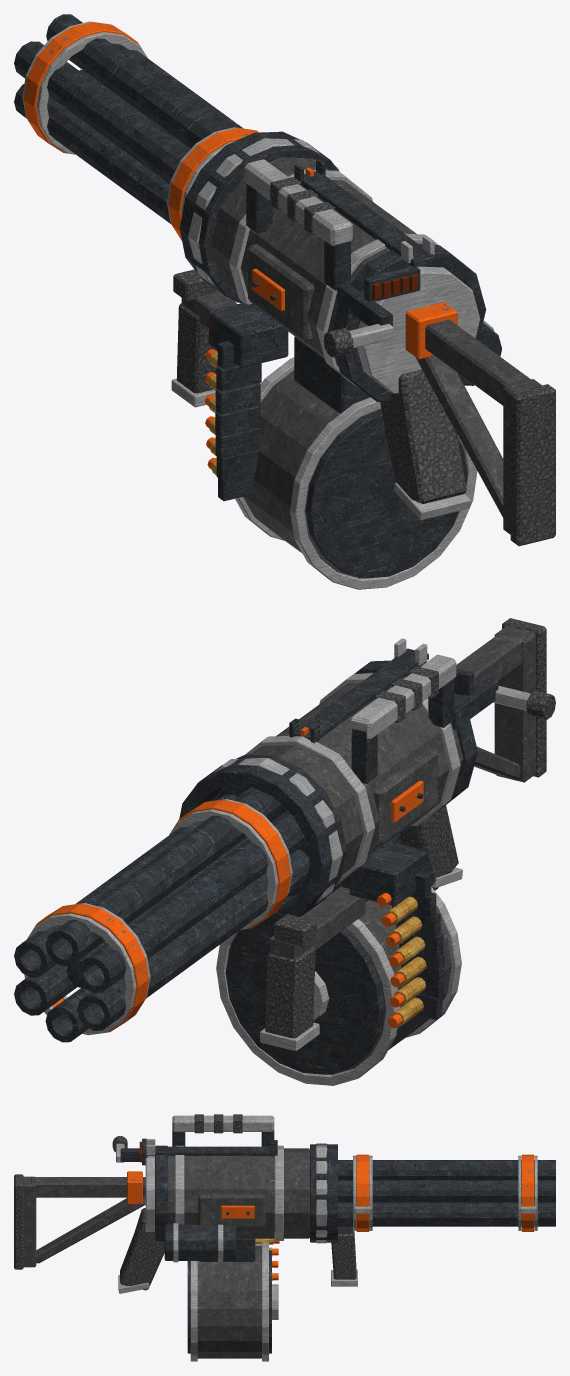
File: hydra.gltf
3 renders of one model, top to bottom at view 1: azimuth 30°, elevation 25°; view 2: azimuth 150°, elevation 25°; view 3: azimuth 270°, elevation 25°, orthographic. The views are drawn at different scales.
Parts seen in each view (by area): view 1: body, mag, minigun_barrel_2, minigun_barrel_1, minigun_barrel_3, bolt, minigun_collar_front, minigun_collar_trim_front, minigun_collar_rear, minigun_barrel_0; view 2: body, mag, minigun_barrel_1, minigun_barrel_2, minigun_barrel_3, minigun_barrel_0, bolt, minigun_collar_front, minigun_collar_rear, minigun_collar_trim_front, minigun_collar_trim_rear, minigun_barrel_5 (+2 smaller); view 3: body, mag, minigun_barrel_0, minigun_barrel_5, minigun_barrel_1, minigun_collar_front, minigun_collar_rear, minigun_collar_trim_rear, minigun_collar_trim_front, minigun_barrel_4, bolt.
Part boxes in pixels (x1,y1,x2,y2): body: (171,131,555,546); mag: (205,329,477,589); minigun_barrel_2: (14,41,188,184); minigun_barrel_1: (46,14,227,148); minigun_barrel_3: (14,84,171,224); bolt: (323,282,393,357); minigun_collar_front: (23,22,147,153); minigun_collar_trim_front: (22,21,147,154); minigun_collar_rear: (168,128,259,240); minigun_barrel_0: (112,43,243,128); body: (179,618,546,1051); mag: (216,834,461,1085); minigun_barrel_1: (45,787,281,965); minigun_barrel_2: (77,810,306,992); minigun_barrel_3: (77,849,309,1030); minigun_barrel_0: (14,794,237,977); bolt: (451,678,555,729); minigun_collar_front: (27,903,148,1032); minigun_collar_rear: (169,799,290,928); minigun_collar_trim_front: (24,903,150,1035); minigun_collar_trim_rear: (170,799,292,929); minigun_barrel_5: (14,963,77,1015); body: (14,1114,357,1293); mag: (187,1238,279,1361); minigun_barrel_0: (338,1180,555,1202); minigun_barrel_5: (338,1202,555,1224); minigun_barrel_1: (338,1160,555,1179); minigun_collar_front: (521,1154,534,1231); minigun_collar_rear: (356,1154,369,1231); minigun_collar_trim_rear: (353,1155,372,1230); minigun_collar_trim_front: (518,1155,537,1230); minigun_barrel_4: (338,1224,555,1226); bolt: (112,1136,139,1162).
Size of the model in its own units: 0.2789 by 0.482 by 1.06.
Materials: 8 (7 with a texture image).
